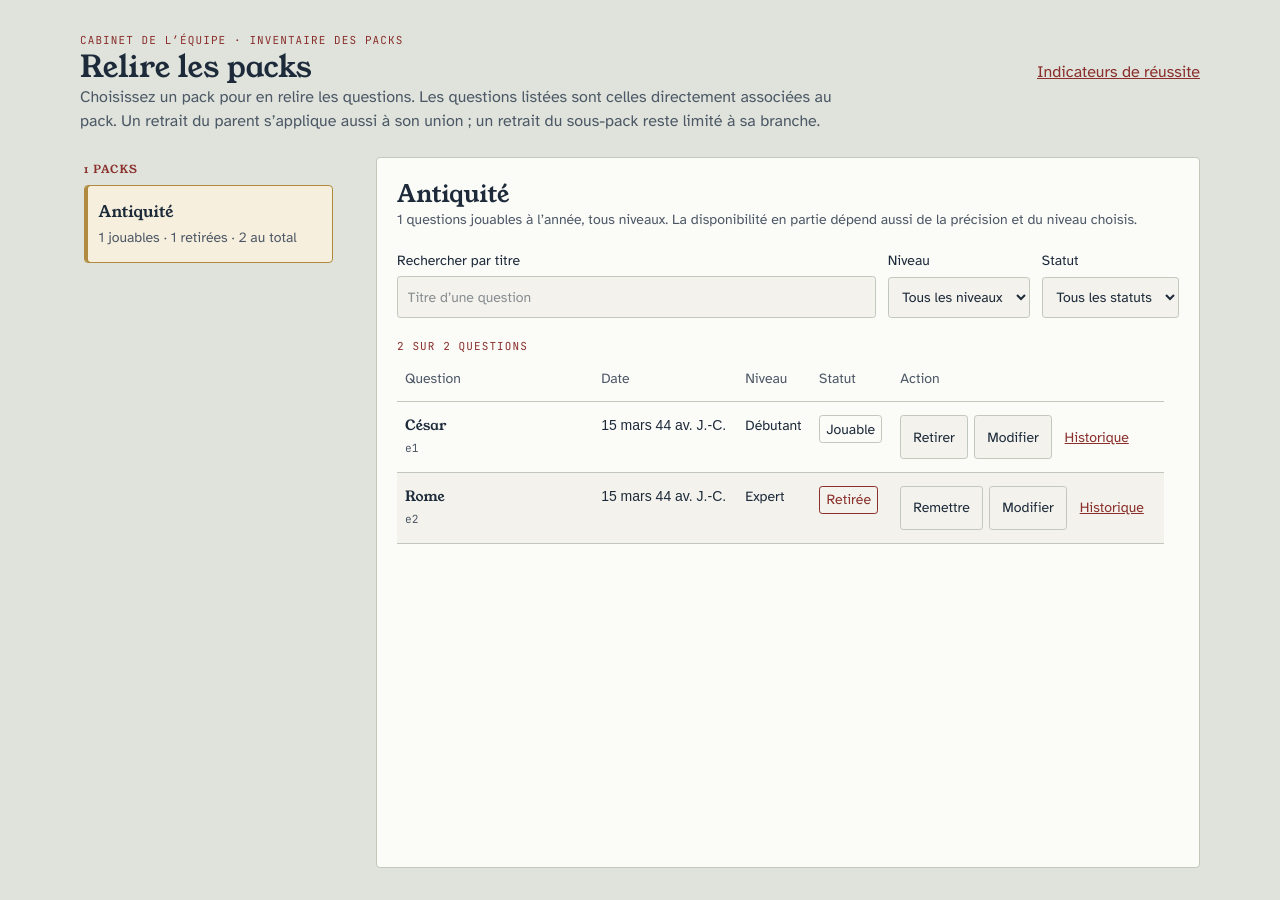
Test: une erreur conserve le motif et l'état confirmé, puis permet de réessayer
Click the button "Retirer": (934, 437) [900,415,968,459]
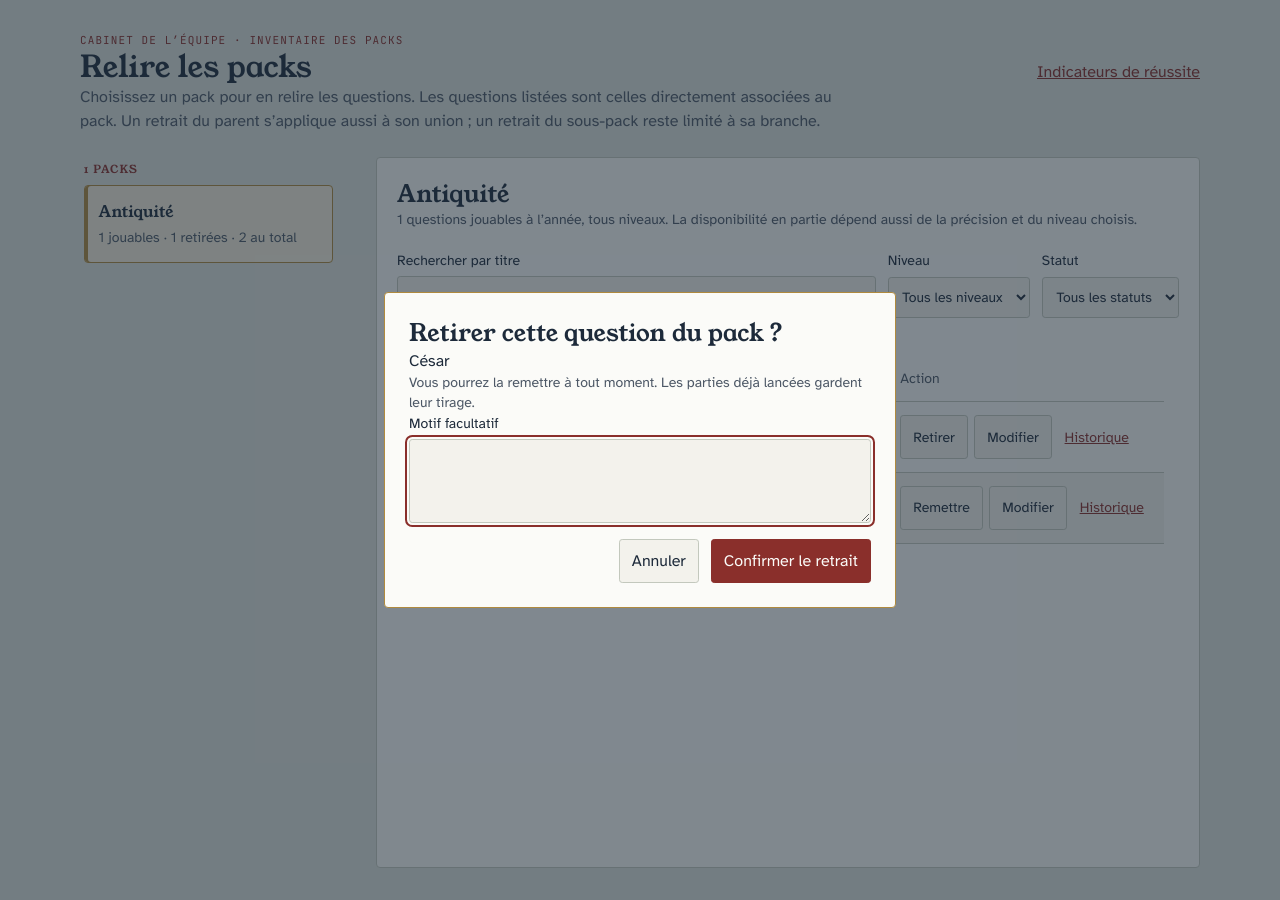
In the text box labelled "Motif facultatif": (640, 481) [409,439,871,523], type "À vérifier"
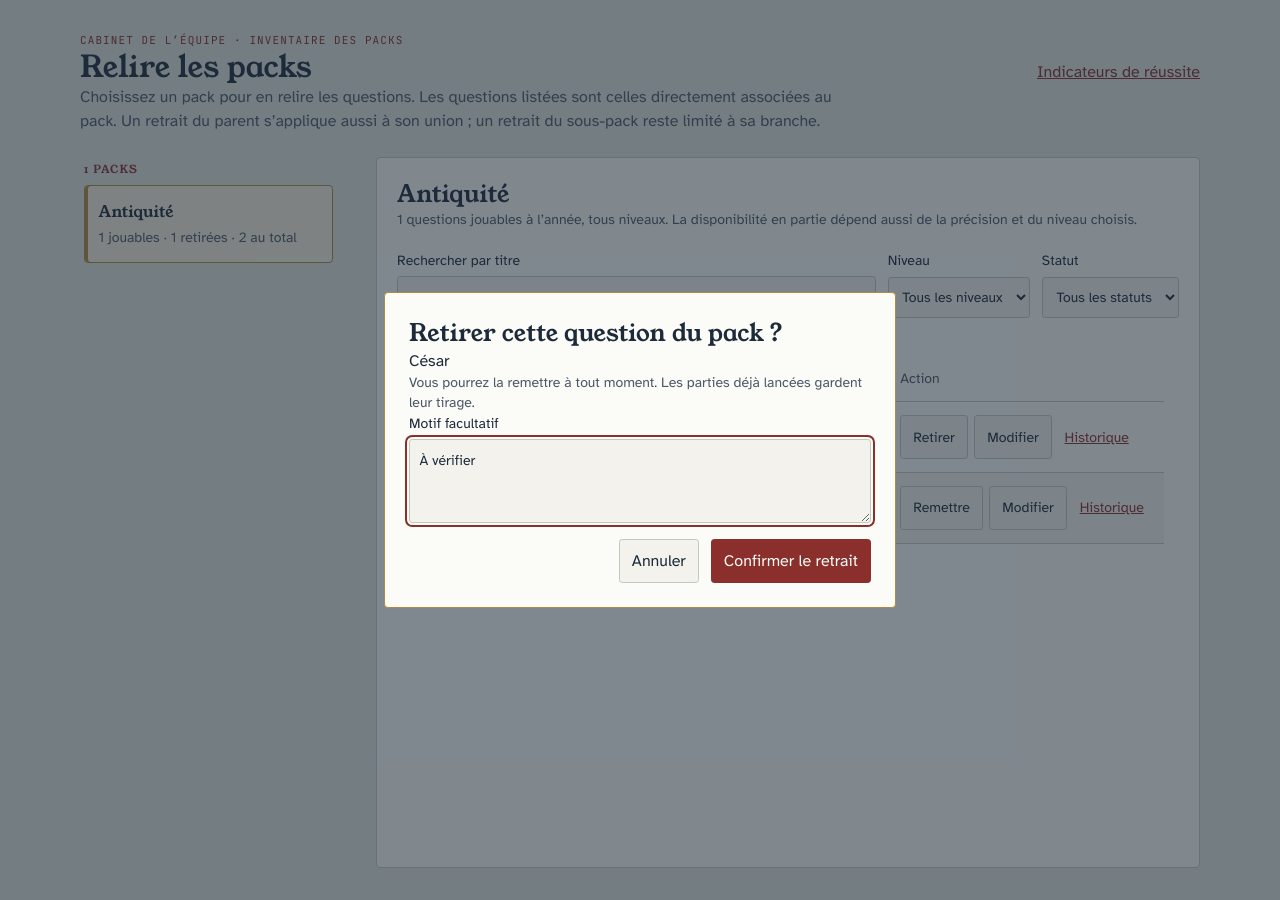
Submit the form, box [409,413,871,583]
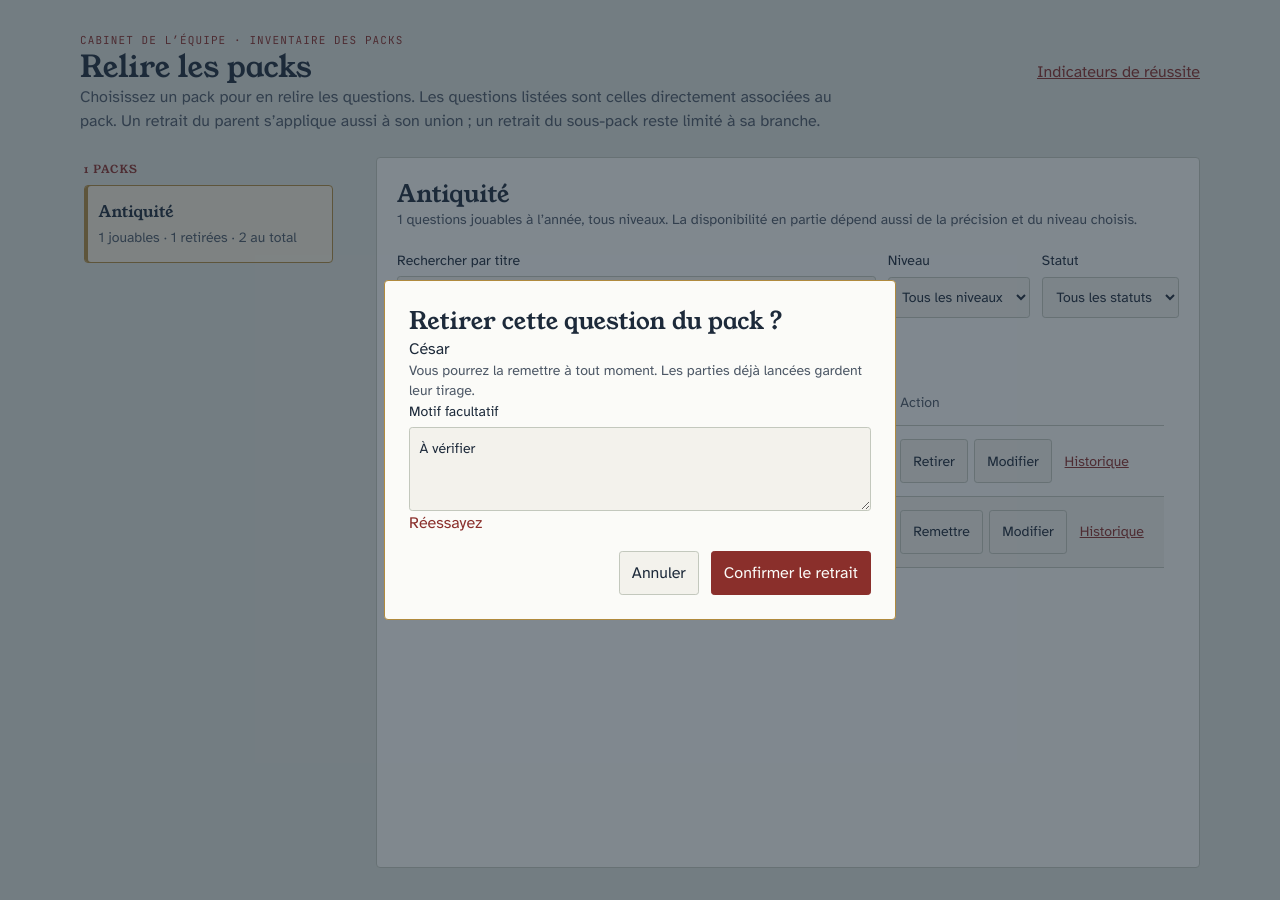
Expected: the text "1 jouables · 1 retirées · 2 au total" is shown, [99,228,318,248]
Now the message reads "Réessayez", box [409,513,482,533]
